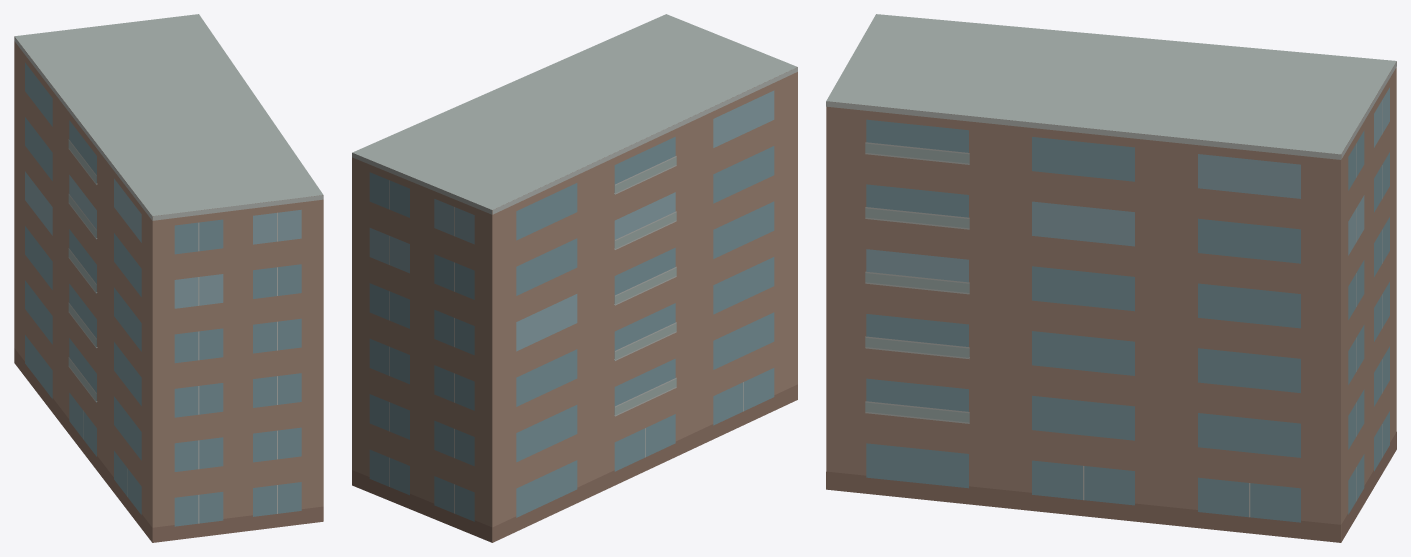
File: survey-upis-32872292.glb
3 renders of one model, left to right at view 1: azimuth 30°, elevation 25°; view 2: azimuth 150°, elevation 25°; view 3: azimuth 270°, elevation 25°, orthographic. The views are drawn at different scales.
Parts seen in each view (by area): view 1: survey-upis-32872292.tmp; view 2: survey-upis-32872292.tmp; view 3: survey-upis-32872292.tmp.
Boxes of the visible parts, left/top/right/bottom form: survey-upis-32872292.tmp: left=14, top=14, right=323, bottom=542; survey-upis-32872292.tmp: left=352, top=14, right=797, bottom=542; survey-upis-32872292.tmp: left=826, top=14, right=1396, bottom=542.
Size of the model in its own units: 13.27 by 17.1 by 22.78.
